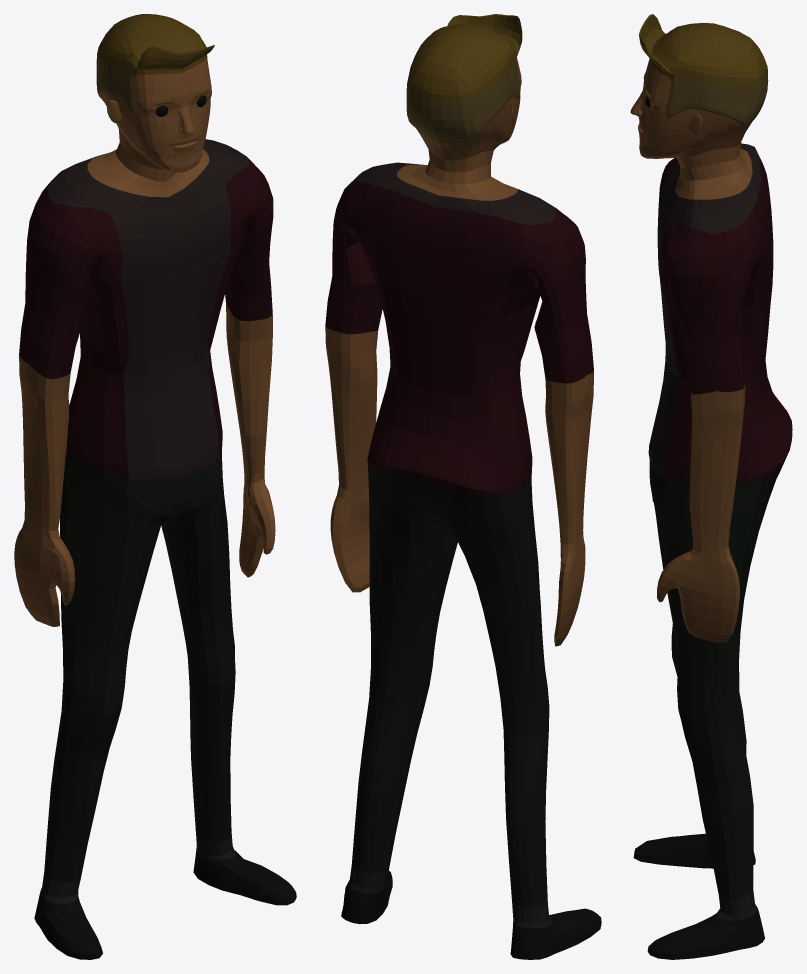
Rendered from Smooth_Male_Shirt.obj.
3 views of the same model, side by side, from view 1: azimuth 30°, elevation 25°; view 2: azimuth 150°, elevation 25°; view 3: azimuth 270°, elevation 25° (orthographic).
Visible parts, largest first — view 1: BaseHuman_Cylinder.002; view 2: BaseHuman_Cylinder.002; view 3: BaseHuman_Cylinder.002.
Part boxes in pixels (box(x1,y1,x2,y2)): BaseHuman_Cylinder.002: box(14, 14, 296, 959); BaseHuman_Cylinder.002: box(325, 14, 601, 959); BaseHuman_Cylinder.002: box(630, 14, 792, 959).
Bounding box in the file's own units: 1.41 × 4.83 × 0.8112.
